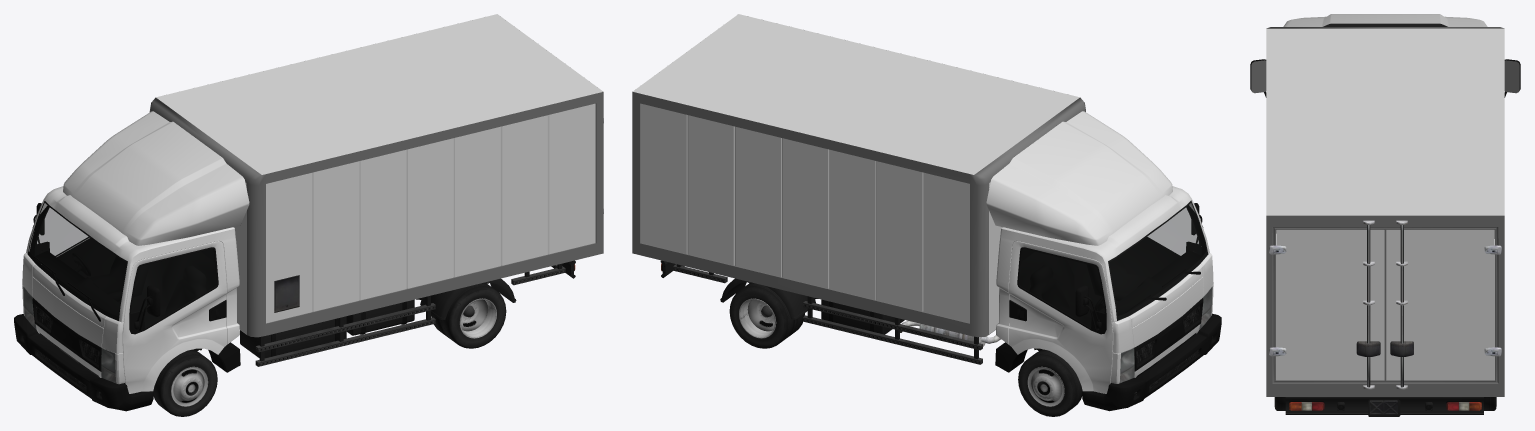
Rendered from truck.glb.
3 views of the same model, side by side, from view 1: azimuth 30°, elevation 25°; view 2: azimuth 150°, elevation 25°; view 3: azimuth 270°, elevation 25° (orthographic). The views are drawn at different scales.
Parts seen in each view (by area): view 1: BODY_BODY_0, BOX_METAL_METALL_0, GLASS_GLASS_0, bottom_BOTTOM_0, interior_VOID_0, CABIN_PLASTIC_PLASTIC_0, BUMPER_FRONT_PLASTIC_0, wheel_01_TIRE_0, wheel_02_TIRE_0, wheel_02_RIM_0, wheel_01_RIM_0, LIGHTS_LIGHTS_GLASS_0 (+1 smaller); view 2: BODY_BODY_0, BOX_METAL_METALL_0, GLASS_GLASS_0, interior_VOID_0, bottom_BOTTOM_0, CABIN_PLASTIC_PLASTIC_0, BUMPER_FRONT_PLASTIC_0, wheel_003_TIRE_0, wheel_004_TIRE_0, wheel_003_RIM_0, wheel_004_RIM_0, LIGHTS_LIGHTS_GLASS_0 (+1 smaller); view 3: BODY_BODY_0, BOX_METAL_METALL_0, bottom_BOTTOM_0, CABIN_PLASTIC_METALL_0, LIGHTS_LIGHT_0, LIGHTS_LIGHTS_GLASS_0, bottom_07 - Default_0.
Part boxes in pixels (x1=…): BODY_BODY_0: x1=22, y1=14, x2=603, y2=393; BOX_METAL_METALL_0: x1=149, y1=92, x2=603, y2=337; GLASS_GLASS_0: x1=28, y1=201, x2=216, y2=327; bottom_BOTTOM_0: x1=36, y1=118, x2=603, y2=383; interior_VOID_0: x1=29, y1=205, x2=216, y2=327; CABIN_PLASTIC_PLASTIC_0: x1=27, y1=201, x2=240, y2=372; BUMPER_FRONT_PLASTIC_0: x1=14, y1=314, x2=153, y2=411; wheel_01_TIRE_0: x1=153, y1=349, x2=217, y2=416; wheel_02_TIRE_0: x1=431, y1=282, x2=506, y2=348; wheel_02_RIM_0: x1=459, y1=298, x2=496, y2=338; wheel_01_RIM_0: x1=171, y1=366, x2=208, y2=406; LIGHTS_LIGHTS_GLASS_0: x1=23, y1=264, x2=575, y2=383; BODY_BODY_0: x1=633, y1=14, x2=1213, y2=393; BOX_METAL_METALL_0: x1=632, y1=91, x2=1085, y2=337; GLASS_GLASS_0: x1=1019, y1=201, x2=1207, y2=327; interior_VOID_0: x1=1019, y1=205, x2=1206, y2=327; bottom_BOTTOM_0: x1=660, y1=260, x2=1199, y2=383; CABIN_PLASTIC_PLASTIC_0: x1=995, y1=201, x2=1208, y2=372; BUMPER_FRONT_PLASTIC_0: x1=1082, y1=313, x2=1221, y2=411; wheel_003_TIRE_0: x1=729, y1=282, x2=804, y2=348; wheel_004_TIRE_0: x1=1018, y1=349, x2=1082, y2=416; wheel_003_RIM_0: x1=739, y1=298, x2=776, y2=338; wheel_004_RIM_0: x1=1027, y1=366, x2=1064, y2=406; LIGHTS_LIGHTS_GLASS_0: x1=661, y1=263, x2=1212, y2=382; BODY_BODY_0: x1=1266, y1=14, x2=1504, y2=380; BOX_METAL_METALL_0: x1=1266, y1=27, x2=1504, y2=396; bottom_BOTTOM_0: x1=1269, y1=220, x2=1501, y2=416; CABIN_PLASTIC_METALL_0: x1=1251, y1=60, x2=1519, y2=93; LIGHTS_LIGHT_0: x1=1289, y1=401, x2=1481, y2=409; LIGHTS_LIGHTS_GLASS_0: x1=1289, y1=402, x2=1481, y2=410; bottom_07 - Default_0: x1=1323, y1=23, x2=1447, y2=26.
Bounding box in the file's own units: 253 × 112 × 106.
11 materials, 5 textured.
